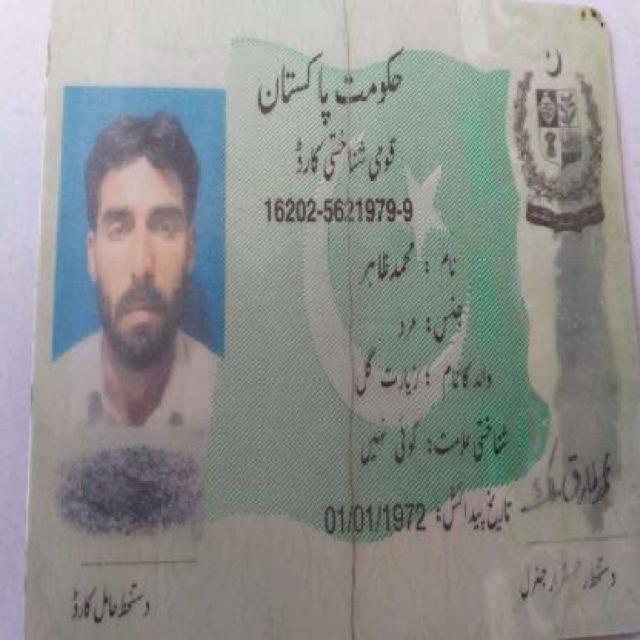Front: (29, 3, 629, 629)
